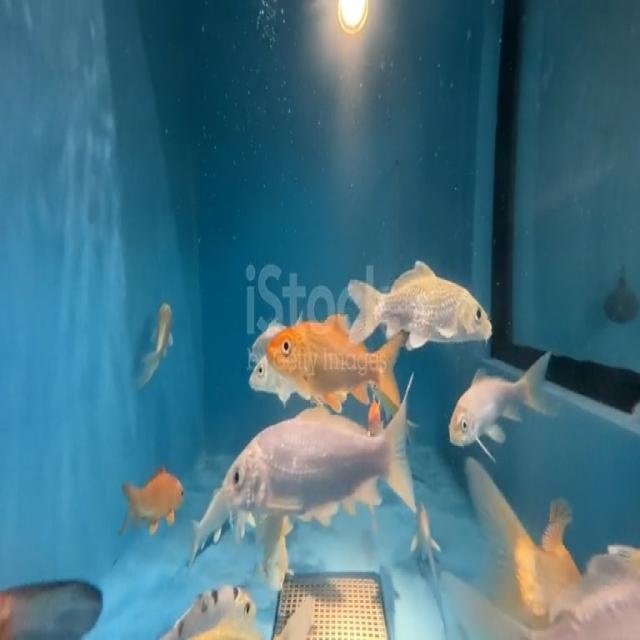fish: (217, 398, 431, 549), (445, 330, 566, 470), (352, 263, 513, 368), (271, 321, 407, 404), (112, 441, 190, 538), (137, 277, 188, 399), (235, 344, 269, 397)
